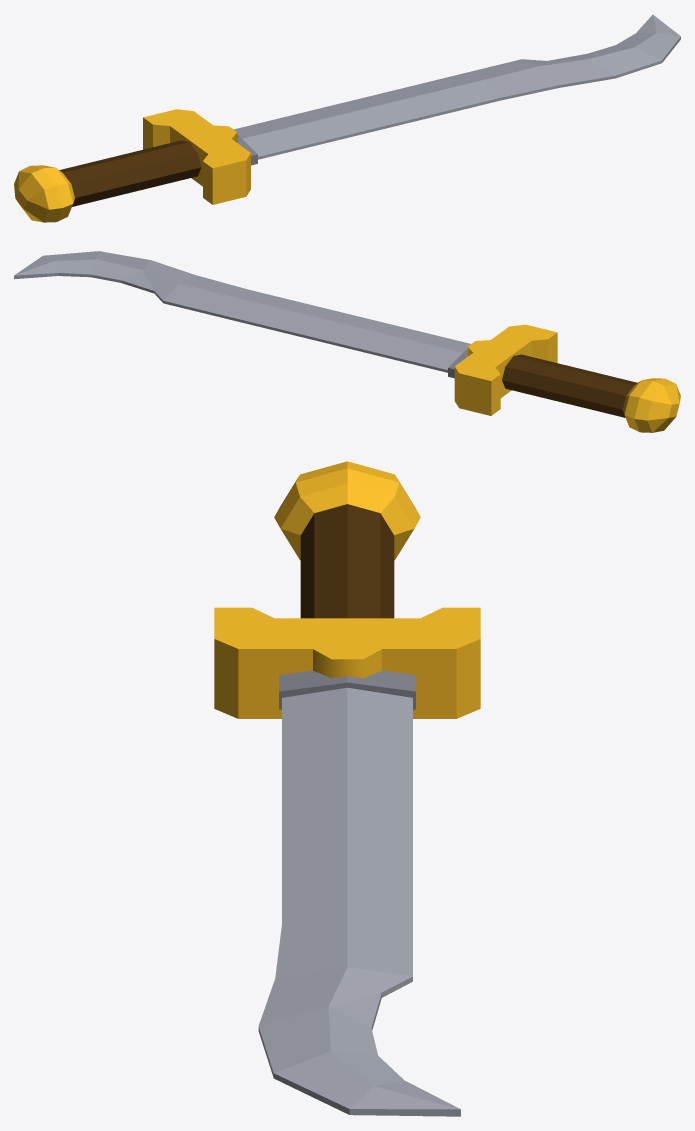
The model's file is Serpe.fbx.
3 views of the same model, one above another, from view 1: azimuth 30°, elevation 25°; view 2: azimuth 150°, elevation 25°; view 3: azimuth 270°, elevation 25° (orthographic). The views are drawn at different scales.
Visible parts, largest first — view 1: Serpe; view 2: Serpe; view 3: Serpe.
Part boxes in pixels (left/top/right/bottom): Serpe: left=14, top=14, right=680, bottom=222; Serpe: left=14, top=251, right=680, bottom=432; Serpe: left=214, top=461, right=480, bottom=1116.
Bounding box in the file's own units: 72.23 × 5.37 × 13.18.
Materials: 1 (1 with a texture image).
